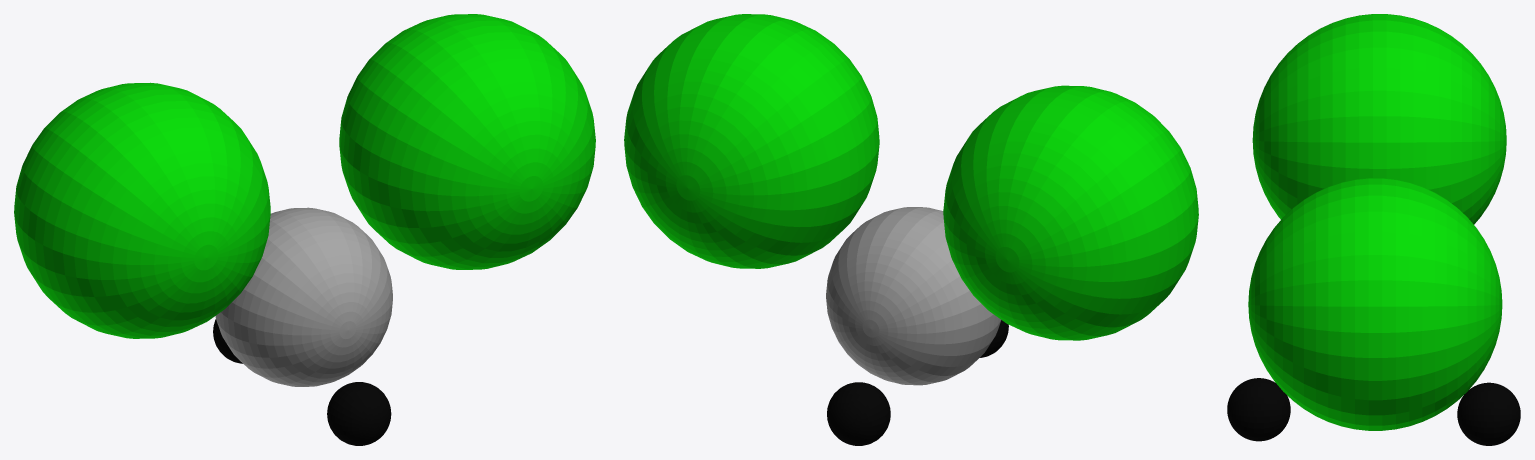
The model's file is Dichloromethane.glb.
3 renders of one model, left to right at view 1: azimuth 30°, elevation 25°; view 2: azimuth 150°, elevation 25°; view 3: azimuth 270°, elevation 25°, orthographic.
Visible parts, largest first — view 1: world; view 2: world; view 3: world.
Boxes of the visible parts, <box> form: world: <box>14,14,595,445</box>; world: <box>624,14,1198,445</box>; world: <box>1227,14,1520,445</box>.
Bounding box in the file's own units: 4.9 × 2.96 × 2.31.
